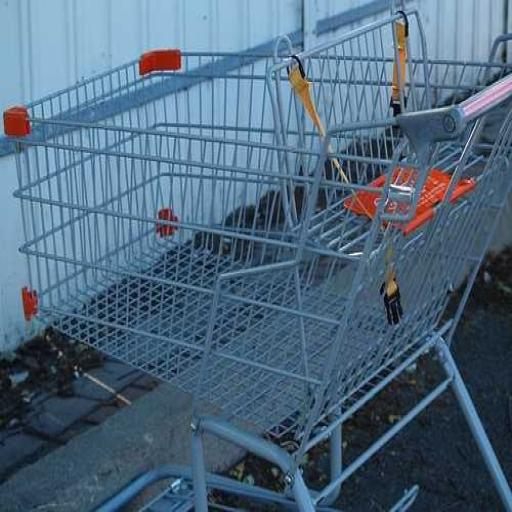shopping_cart: (0, 8, 512, 512)
